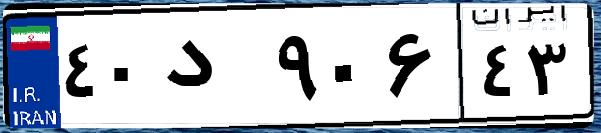0: (330, 28, 385, 110), (110, 28, 158, 98)
3: (525, 38, 570, 115)
4: (57, 26, 110, 100), (475, 38, 525, 113)
6: (385, 28, 445, 110)
9: (270, 28, 330, 110)
د: (158, 20, 270, 120)
